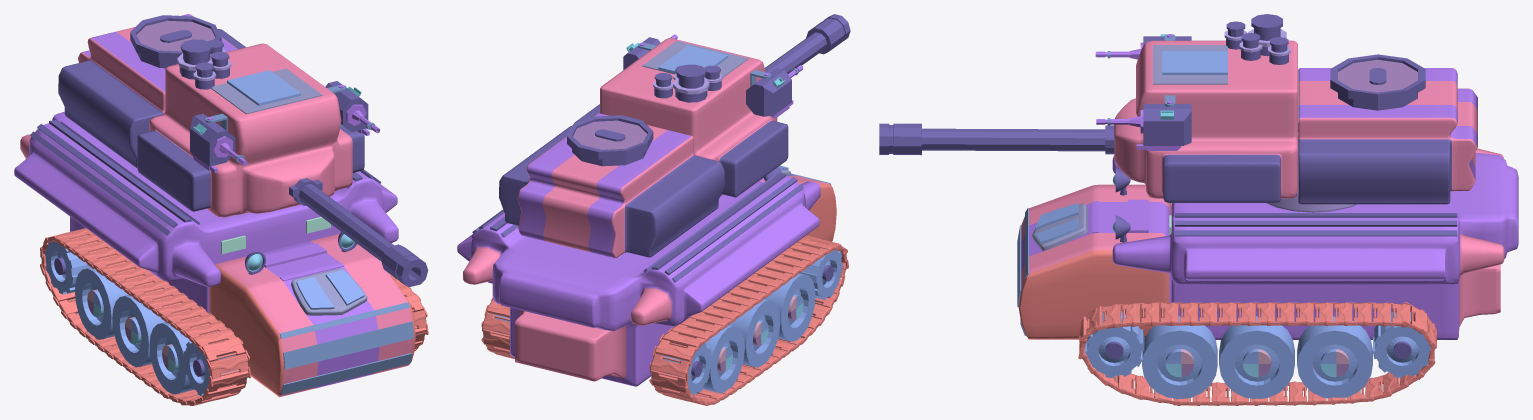
Rendered from tanks_02.fbx.
3 renders of one model, left to right at view 1: azimuth 30°, elevation 25°; view 2: azimuth 150°, elevation 25°; view 3: azimuth 270°, elevation 25°, orthographic. The views are drawn at different scales.
Parts seen in each view (by area): view 1: Hull, Turret, Track, Roadwheel, Maingun, Gun, Hatch; view 2: Hull, Turret, Track, Roadwheel, Hatch, Gun, Maingun; view 3: Hull, Turret, Roadwheel, Track, Maingun, Hatch, Gun.
Boxes of the visible parts, <box> form: Hull: <box>14,112,415,397</box>; Turret: <box>58,14,364,217</box>; Track: <box>40,228,428,405</box>; Roadwheel: <box>44,241,415,395</box>; Maingun: <box>289,178,428,287</box>; Gun: <box>190,81,380,172</box>; Hatch: <box>130,15,221,68</box>; Hull: <box>457,165,836,386</box>; Turret: <box>499,38,788,258</box>; Track: <box>481,235,848,405</box>; Roadwheel: <box>489,249,842,395</box>; Hatch: <box>567,115,653,166</box>; Gun: <box>623,34,803,118</box>; Maingun: <box>764,14,850,73</box>; Hull: <box>1017,123,1518,339</box>; Turret: <box>1114,14,1477,204</box>; Roadwheel: <box>1085,311,1431,399</box>; Track: <box>1078,301,1436,405</box>; Maingun: <box>879,123,1114,155</box>; Hatch: <box>1330,54,1425,110</box>; Gun: <box>1095,34,1191,150</box>.
Size of the model in its own units: 6.57 by 7.33 by 13.51.
1 material, 1 textured.
